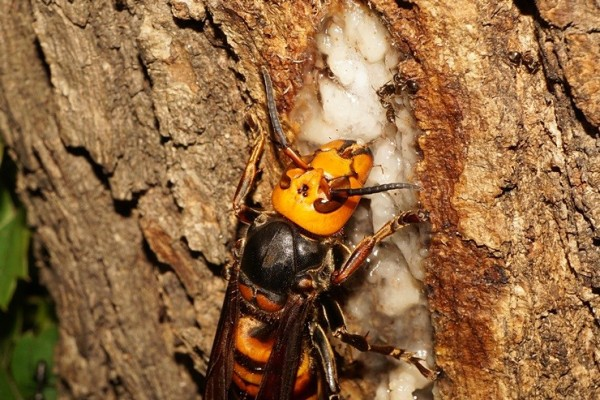asian_giant_hornet: (208, 135, 376, 400)
